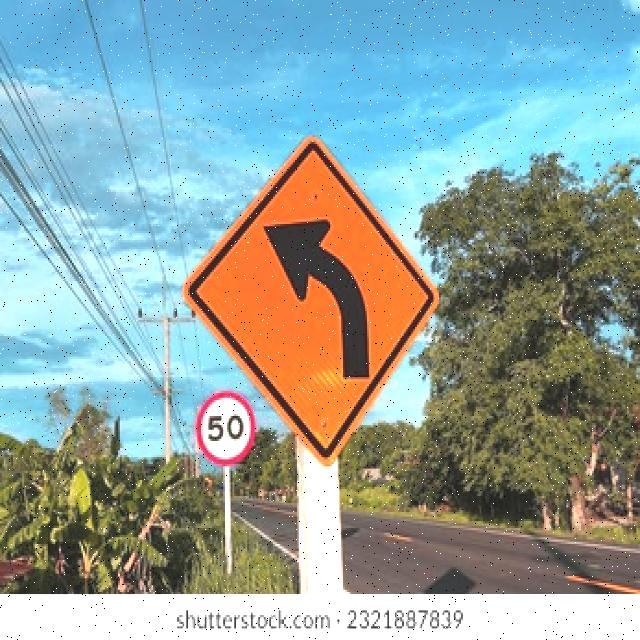Traffic sign: (178, 134, 446, 472)
